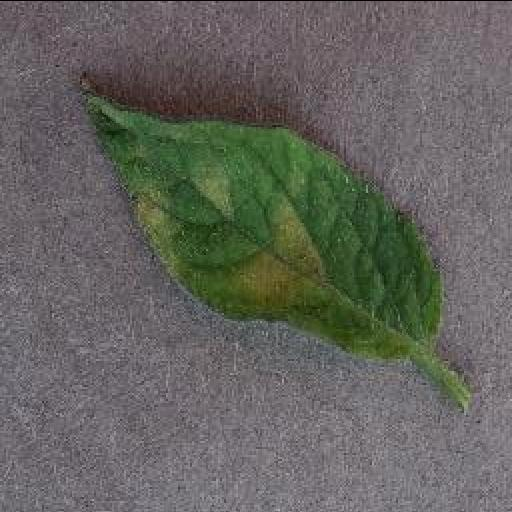disease_tomato: (80, 82, 444, 360)
